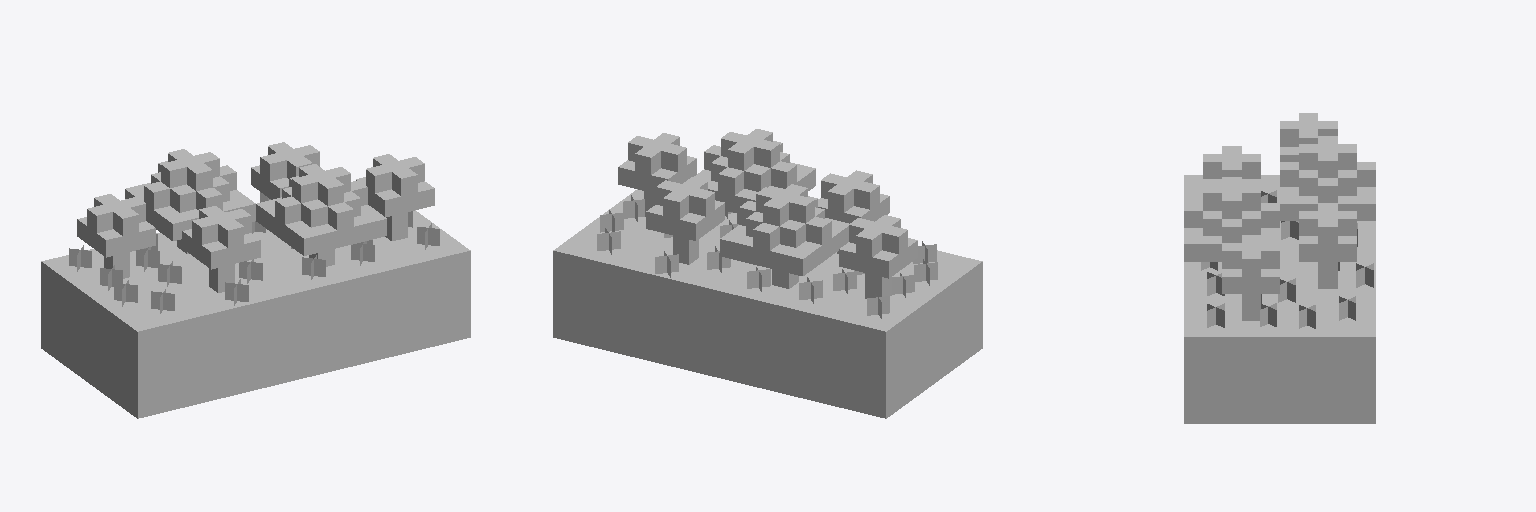
The model's file is tiny-forest.obj.
3 views of the same model, side by side, from view 1: azimuth 30°, elevation 25°; view 2: azimuth 150°, elevation 25°; view 3: azimuth 270°, elevation 25° (orthographic).
Parts seen in each view (by area): view 1: Honors_Various_Samples__114_197_-55_to_133_208_-46; view 2: Honors_Various_Samples__114_197_-55_to_133_208_-46; view 3: Honors_Various_Samples__114_197_-55_to_133_208_-46.
Boxes of the visible parts, box(x1,y1,x2,y2) form: Honors_Various_Samples__114_197_-55_to_133_208_-46: box(41, 142, 470, 418); Honors_Various_Samples__114_197_-55_to_133_208_-46: box(553, 129, 982, 418); Honors_Various_Samples__114_197_-55_to_133_208_-46: box(1184, 113, 1375, 423).
Size of the model in its own units: 20 by 10 by 10.